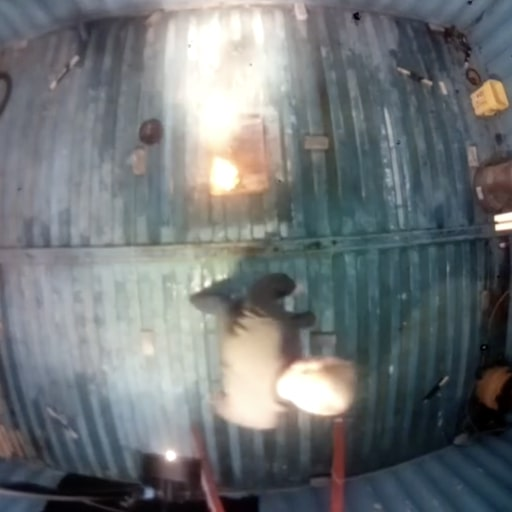Fire: (208, 156, 239, 188)
